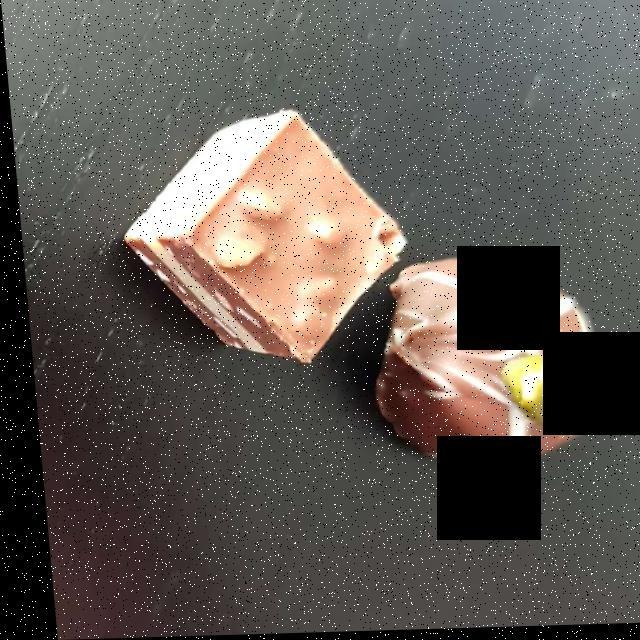nuts: (135, 100, 593, 462)
